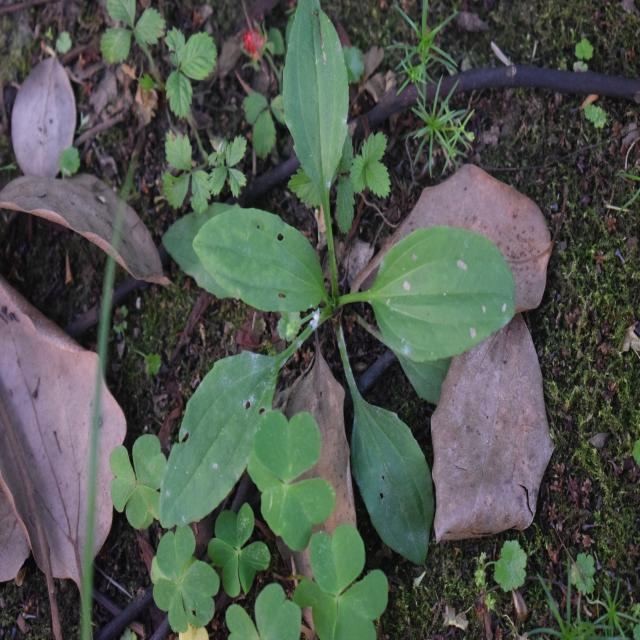plantain: (179, 33, 538, 507)
